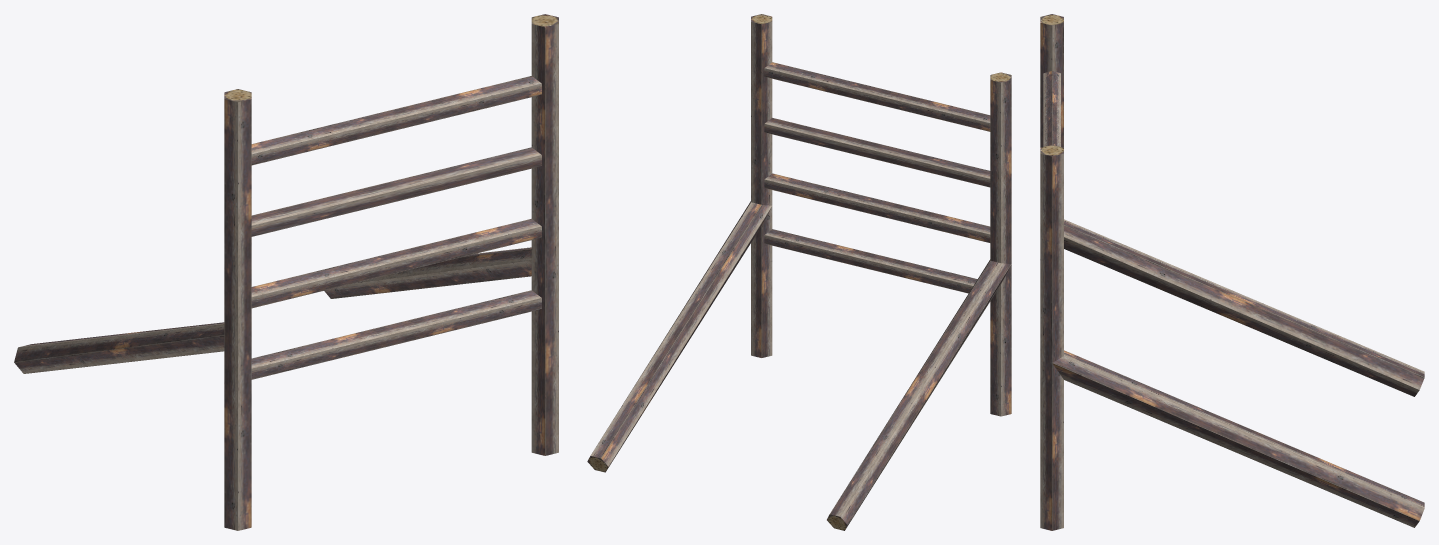
Rendered from ParkourScaffolding01.obj.
3 renders of one model, left to right at view 1: azimuth 30°, elevation 25°; view 2: azimuth 150°, elevation 25°; view 3: azimuth 270°, elevation 25°, orthographic. The views are drawn at different scales.
Visible parts, largest first — view 1: ParkourScaffolding01; view 2: ParkourScaffolding01; view 3: ParkourScaffolding01.
Part boxes in pixels (box(x1,y1,x2,y2)): ParkourScaffolding01: box(14, 14, 558, 530); ParkourScaffolding01: box(587, 14, 1011, 530); ParkourScaffolding01: box(1040, 14, 1424, 530).
Size of the model in its own units: 6.12 by 7.5 by 6.98.
